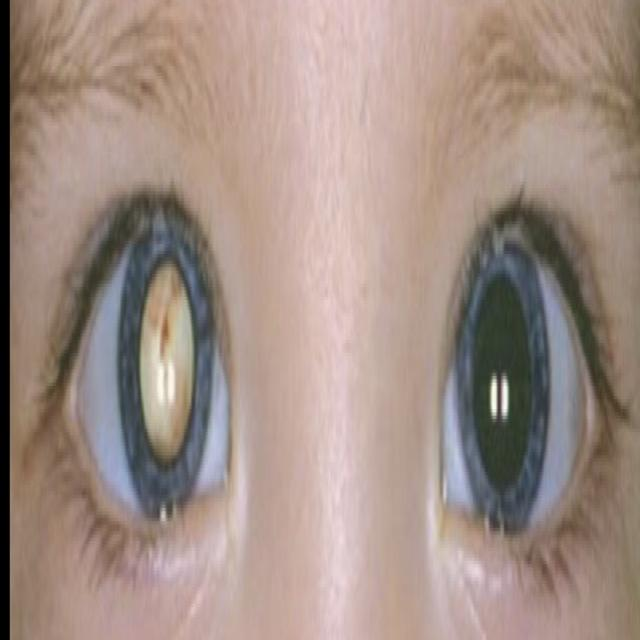reflexo-alterado: (126, 209, 202, 541)
reflexo-normal: (438, 222, 568, 563)
